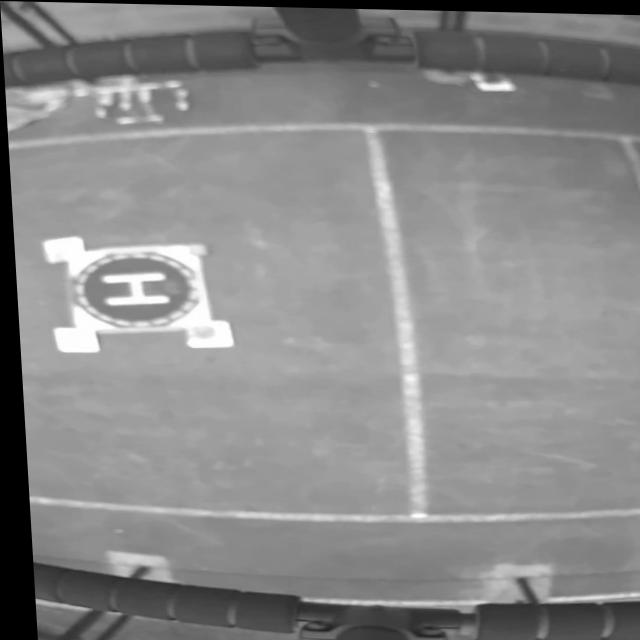Helipad: (96, 270, 167, 305)
